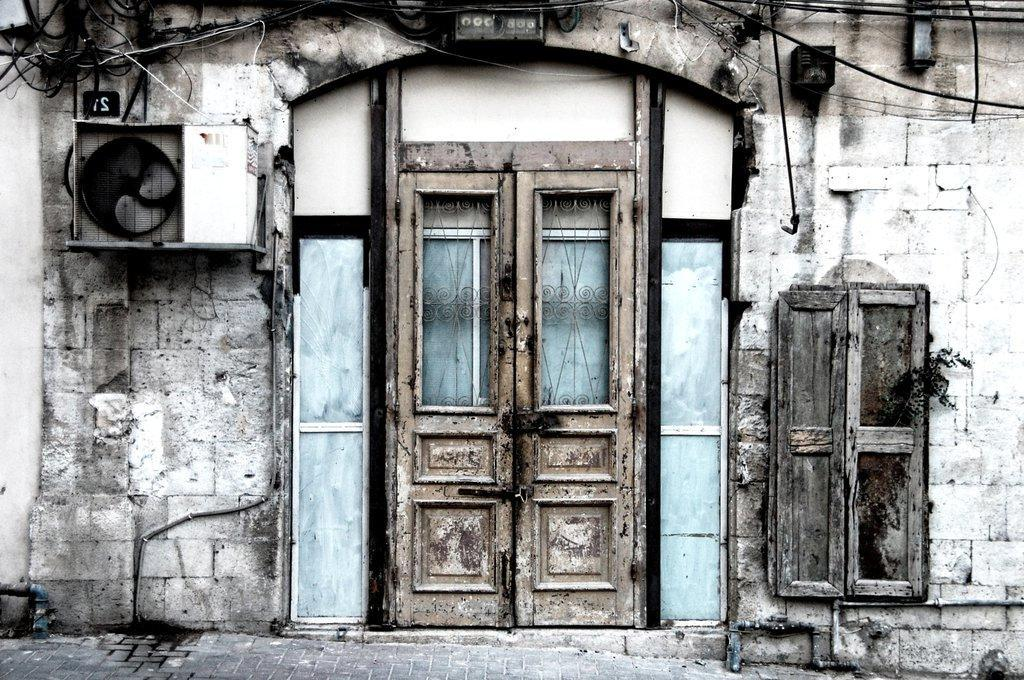door: (390, 180, 510, 613), (520, 177, 630, 616)
handle: (520, 416, 554, 434)
